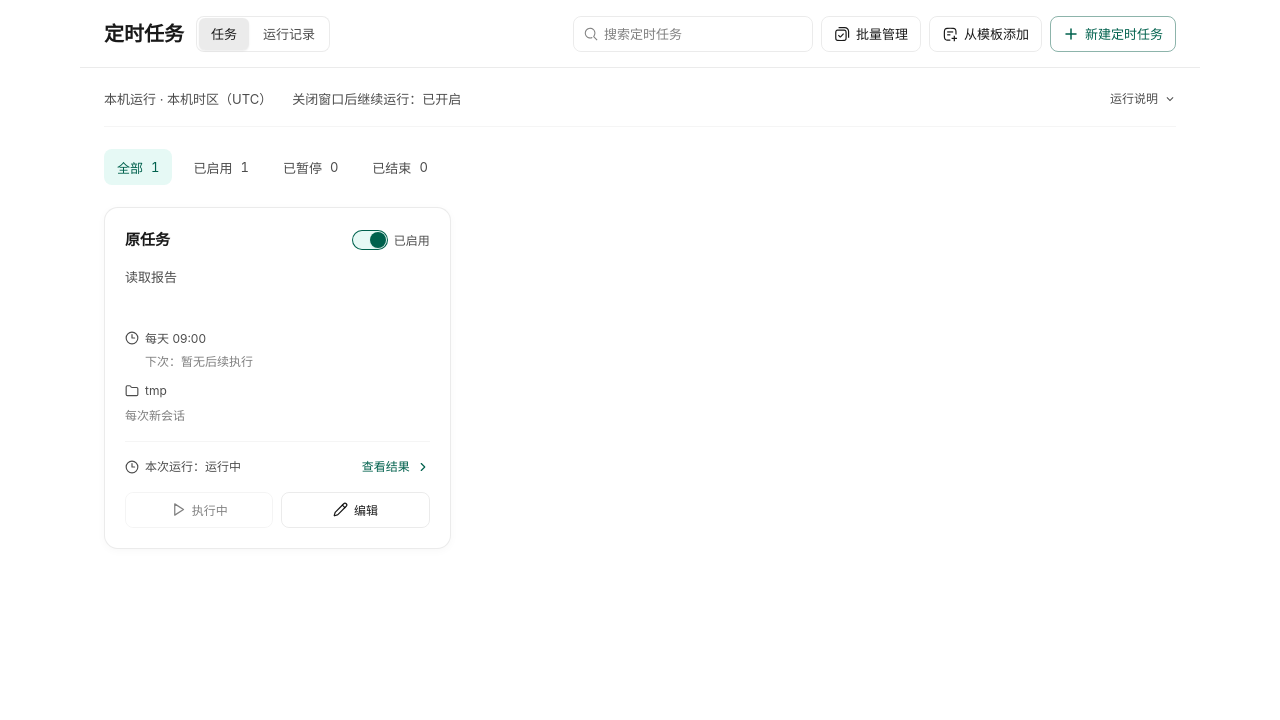
Test: 自动化编辑流程与通知导航 › 停止超时保留停止意图、恢复重试入口，重试完成后不改变后续计划
The image size is (1280, 720).
Click the button "原任务" at (232,240), box [125, 228, 340, 252]
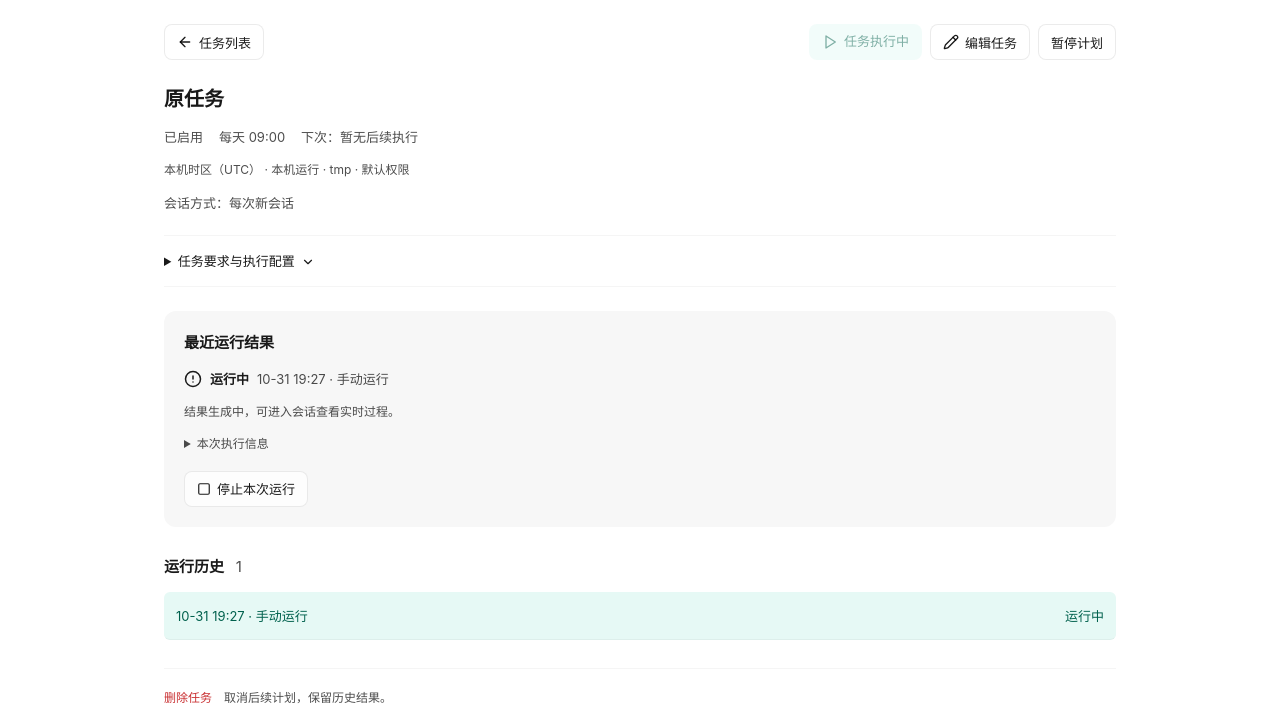
Click the button "停止本次运行" at (246,488), box [184, 470, 308, 506]
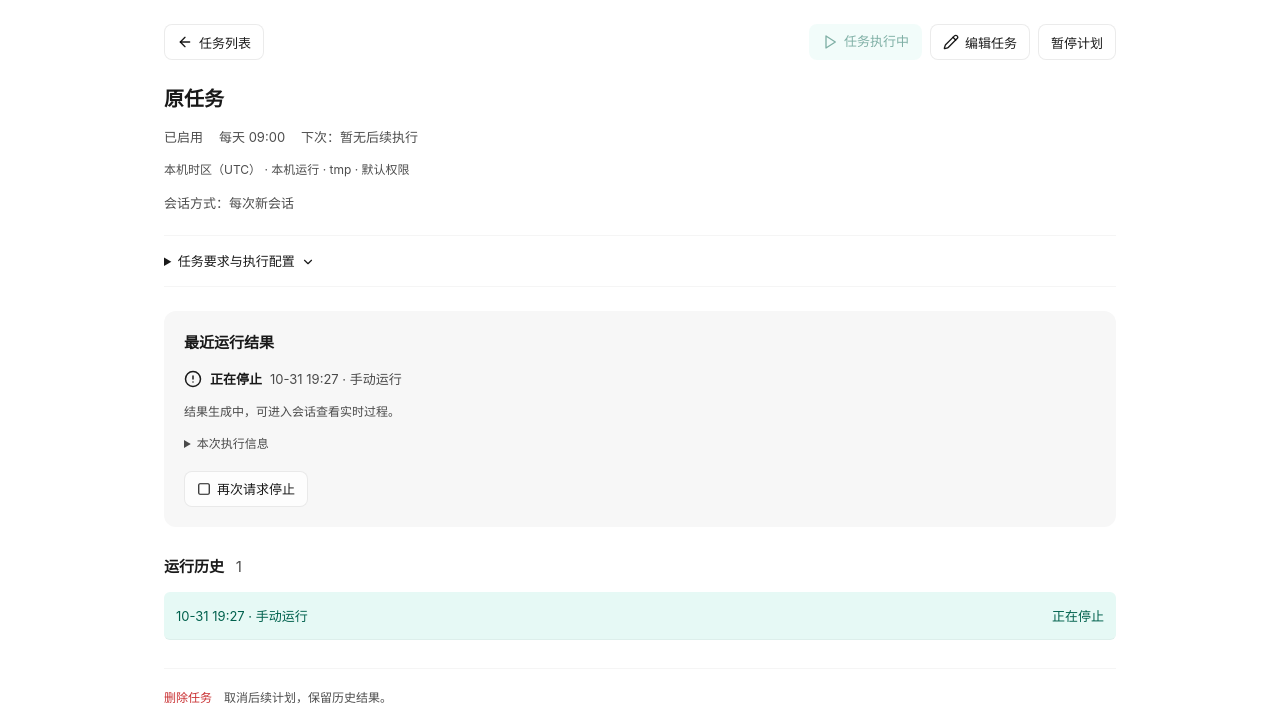
expect the button "再次请求停止" is enabled: met
Click the button "再次请求停止" at (246,488), box [184, 470, 308, 506]
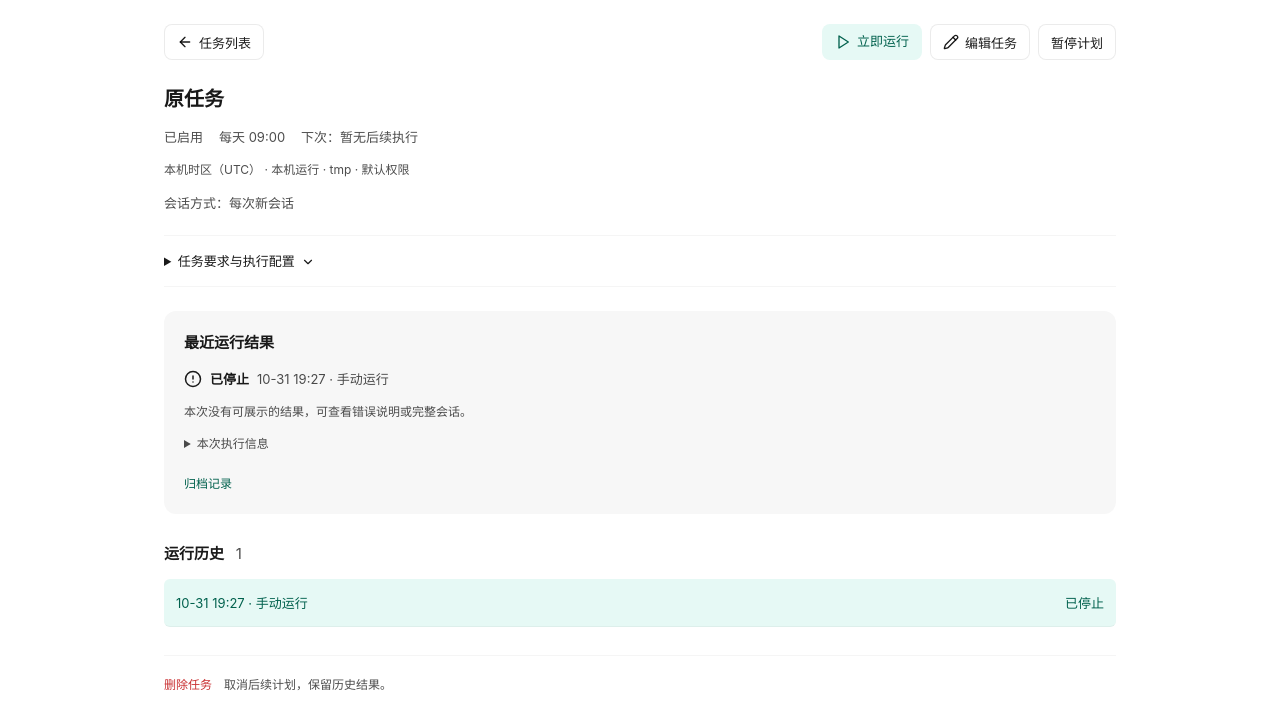
expect the element named "本次运行结果" shows "已停止": met, box [210, 371, 249, 387]
